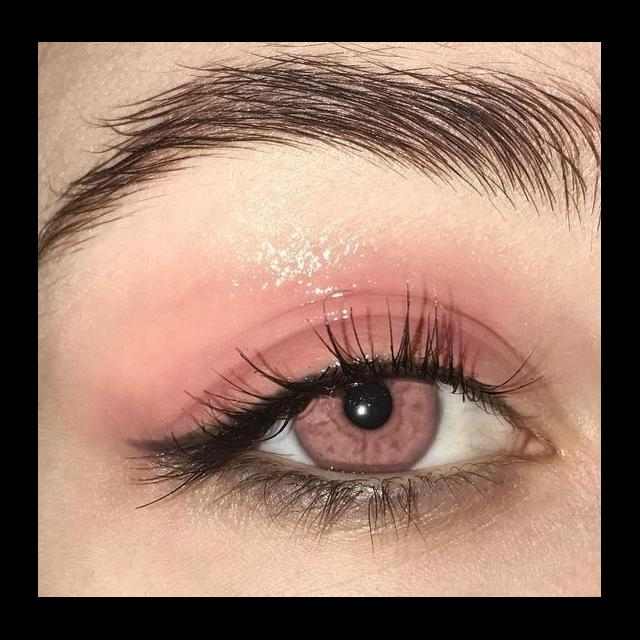eye: (257, 372, 516, 475)
iris: (294, 379, 440, 471)
